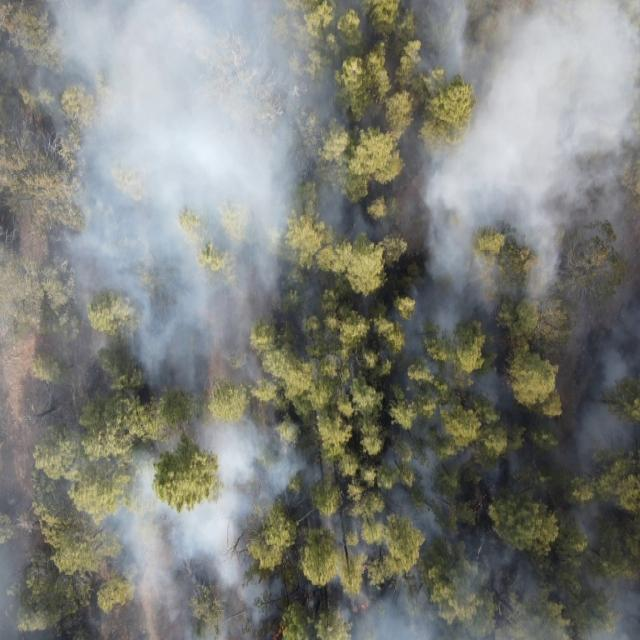fire: (351, 601, 368, 617), (299, 588, 316, 604), (271, 621, 285, 640)
